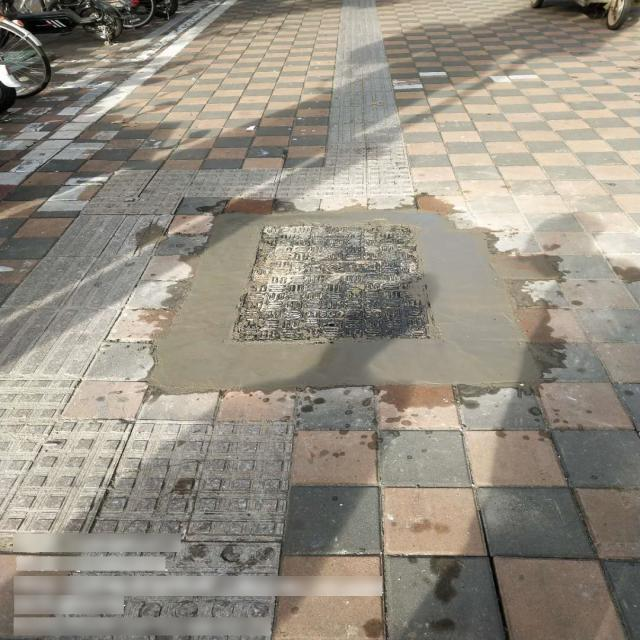Good: (226, 221, 446, 343)
